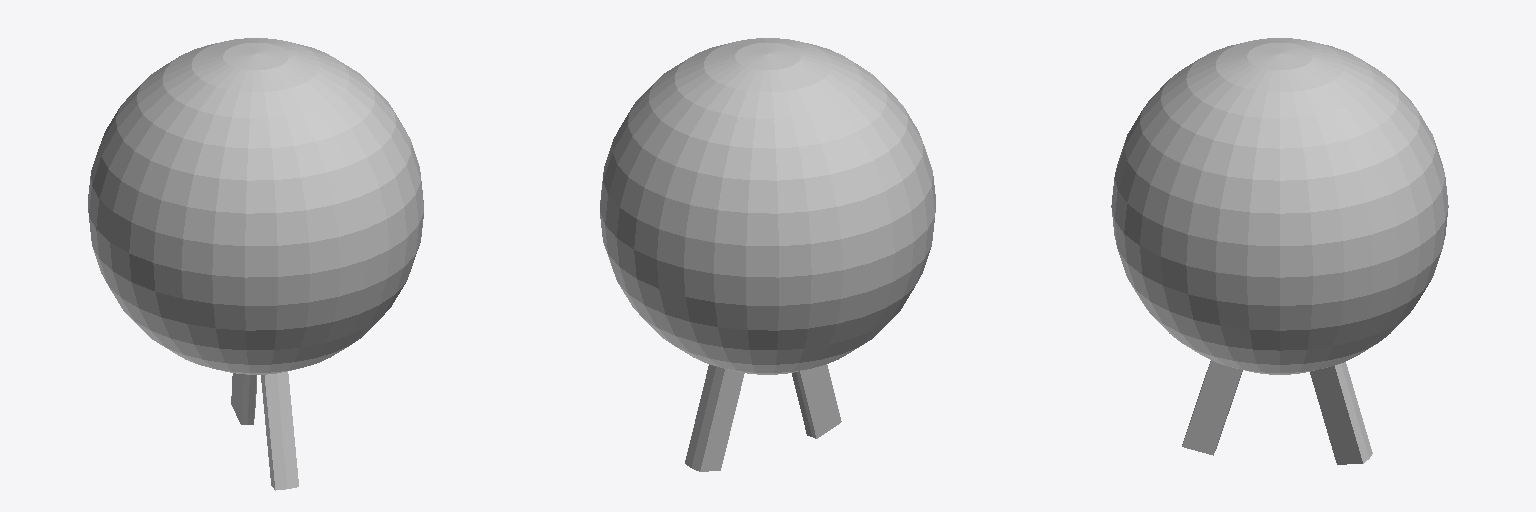
Rendered from smiling_orb.obj.
The picture shows the model from 3 angles: view 1: azimuth 30°, elevation 25°; view 2: azimuth 150°, elevation 25°; view 3: azimuth 270°, elevation 25°; orthographic projection.
Visible parts, largest first — view 1: Icosphere; view 2: Icosphere; view 3: Icosphere.
Boxes of the visible parts, <box> form: Icosphere: <box>88,38,423,490</box>; Icosphere: <box>600,38,935,471</box>; Icosphere: <box>1111,38,1448,464</box>.
Bounding box in the file's own units: 2 × 2.65 × 2.